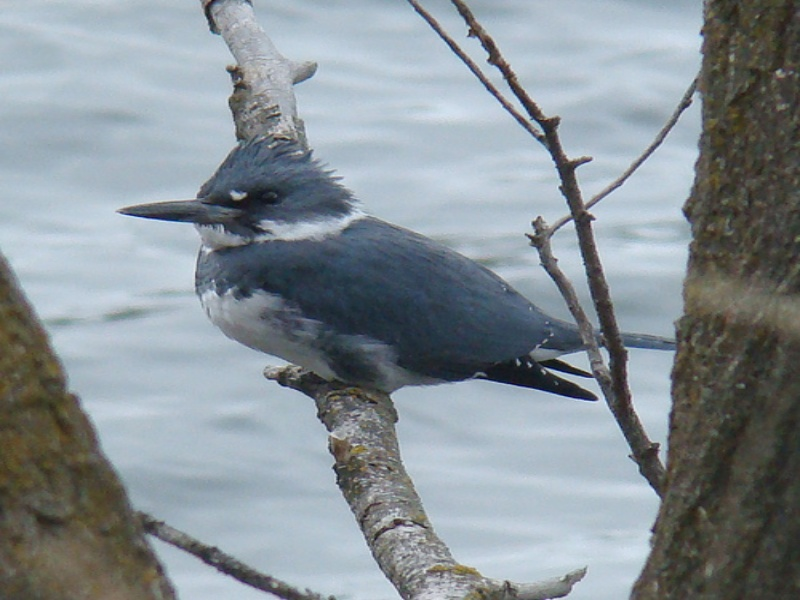kingfisher: (108, 134, 694, 430)
